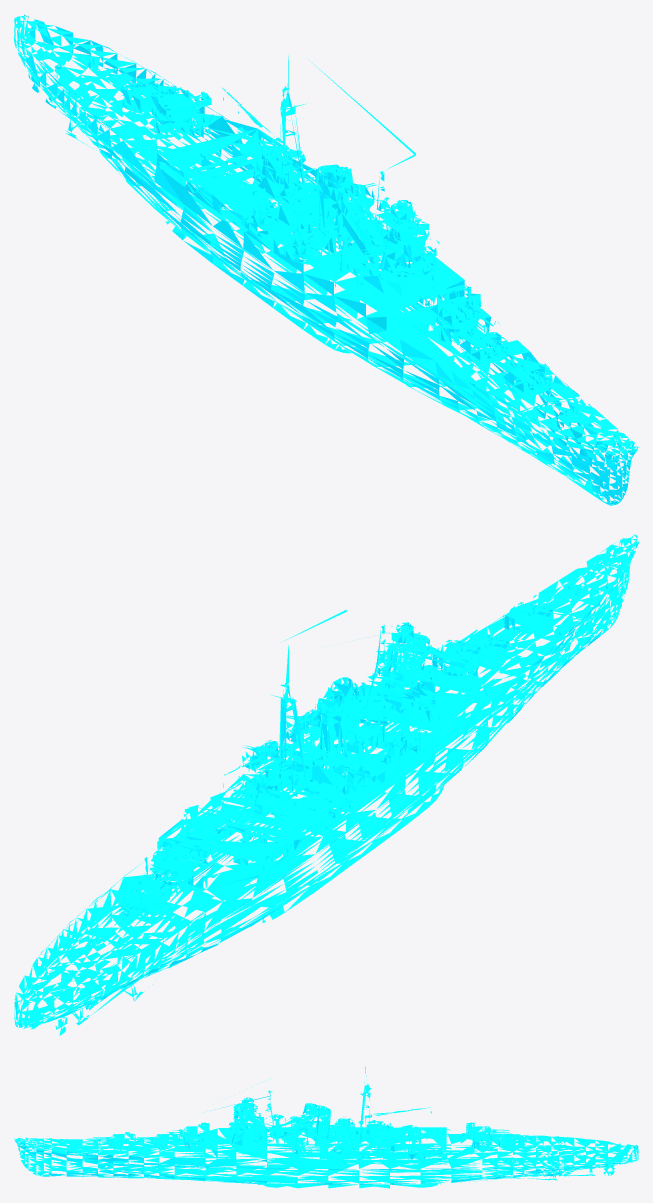
Rendered from PJSC759.glb.
3 views of the same model, one above another, from view 1: azimuth 30°, elevation 25°; view 2: azimuth 150°, elevation 25°; view 3: azimuth 270°, elevation 25° (orthographic). The views are drawn at different scales.
Visible parts, largest first — view 1: hull, turret; view 2: hull, turret; view 3: hull, turret.
Part boxes in pixels (x1,y1,x2,y2): hull: (14, 14, 638, 505); turret: (107, 70, 565, 397); hull: (14, 534, 638, 1035); turret: (106, 591, 565, 919); hull: (14, 1066, 638, 1188); turret: (93, 1116, 540, 1152).
Size of the model in its own units: 1.67 by 2.61 by 13.35.
